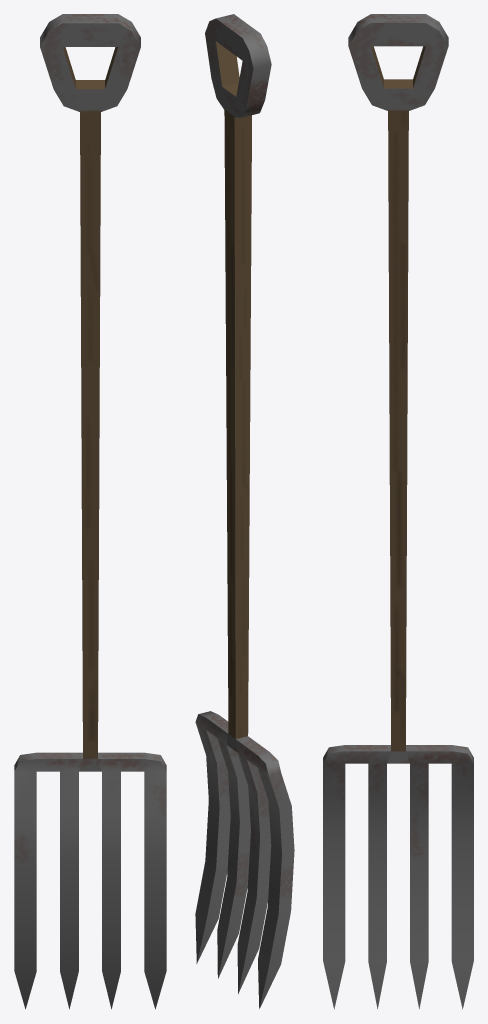
The model's file is pitchfork.fbx.
3 views of the same model, side by side, from view 1: azimuth 90°, elevation 25°; view 2: azimuth 210°, elevation 25°; view 3: azimuth 270°, elevation 25° (orthographic). The views are drawn at different scales.
Visible parts, largest first — view 1: pitchfork; view 2: pitchfork; view 3: pitchfork.
Part boxes in pixels (x1,y1,x2,y2): pitchfork: (14, 14, 166, 1009); pitchfork: (195, 14, 294, 1008); pitchfork: (323, 14, 473, 1009).
Size of the model in its own units: 0.366 by 11.2 by 1.55.
